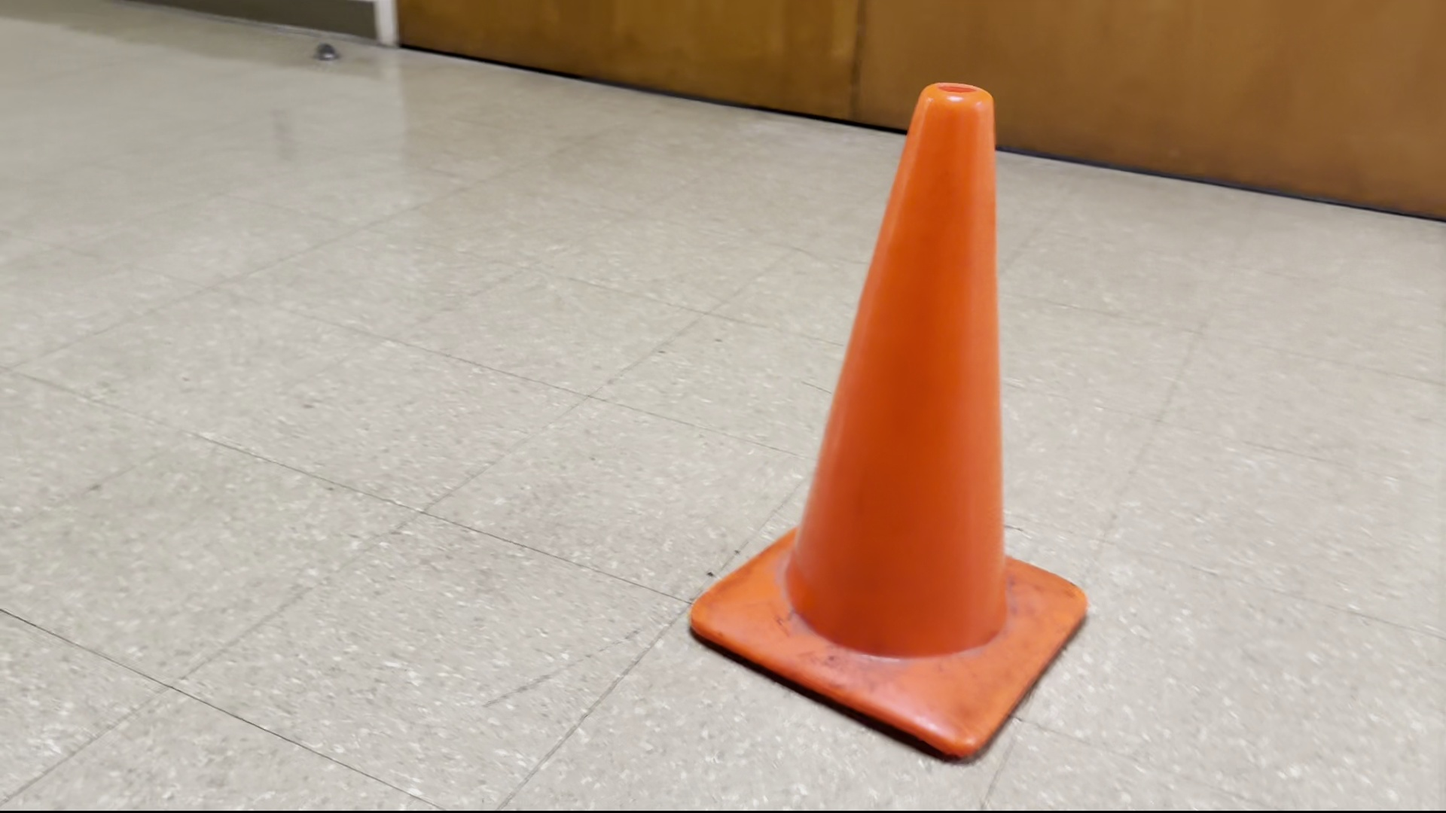traffic_cone: (688, 80, 1089, 762)
